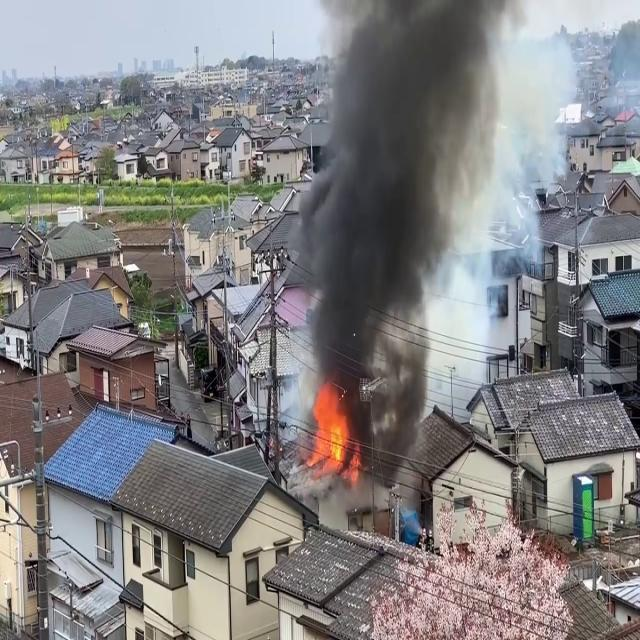Fire: (304, 380, 356, 476)
Smoke: (291, 0, 512, 446)
